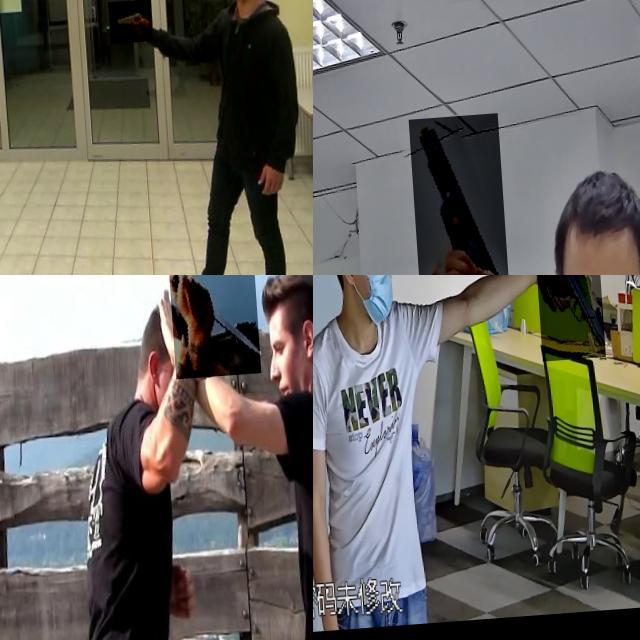-: (167, 275, 258, 382)
gun-knife-thesis - v11 Yolov5 augmented: (405, 119, 507, 275), (531, 275, 600, 369), (104, 6, 148, 50)
